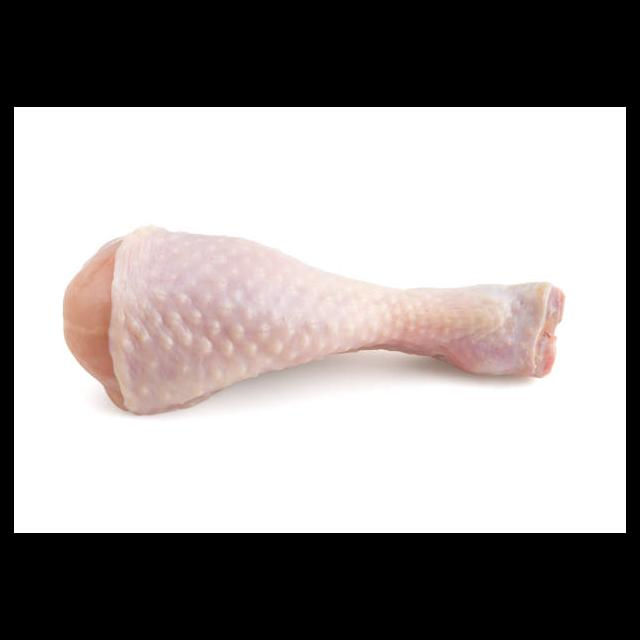chicken: (60, 224, 565, 416)
